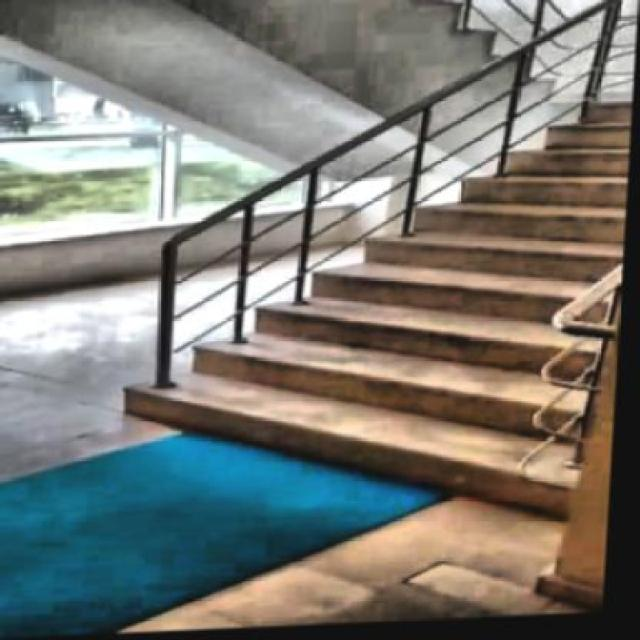stair: (74, 71, 634, 540)
